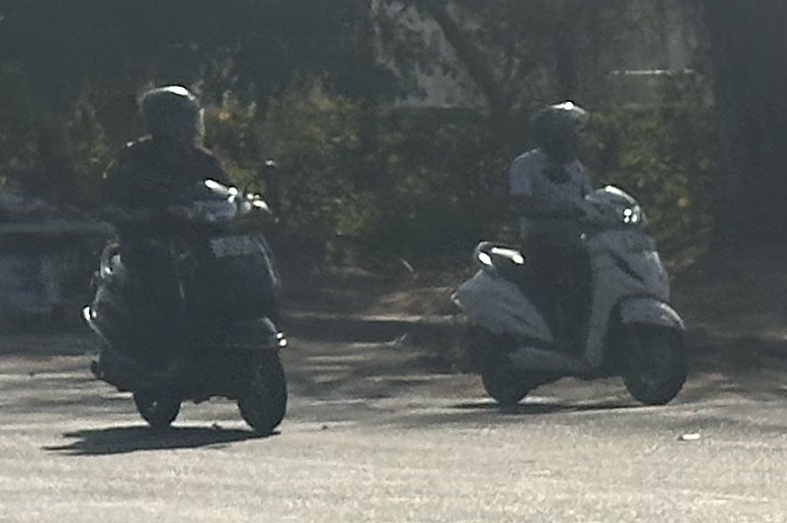BikeWithRider: (449, 97, 694, 408), (78, 85, 288, 432)
Helmet: (139, 85, 211, 156), (525, 99, 590, 164)
